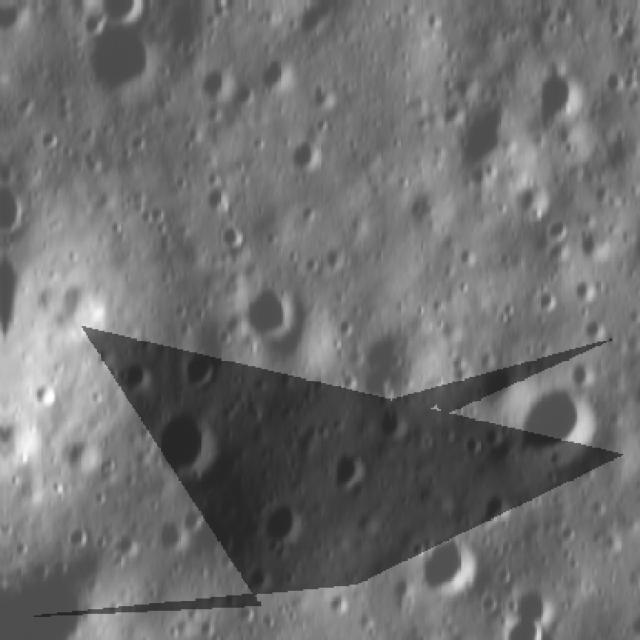crater: (512, 384, 597, 464), (82, 29, 164, 94), (151, 406, 231, 471), (412, 536, 486, 587), (242, 281, 288, 345), (533, 61, 579, 122), (142, 506, 192, 557), (250, 498, 304, 544), (327, 440, 364, 495), (252, 48, 299, 90), (198, 65, 244, 103), (177, 350, 226, 384), (277, 139, 315, 173), (566, 278, 597, 308), (573, 317, 602, 346), (533, 277, 555, 315), (544, 204, 562, 242), (36, 375, 52, 416)
